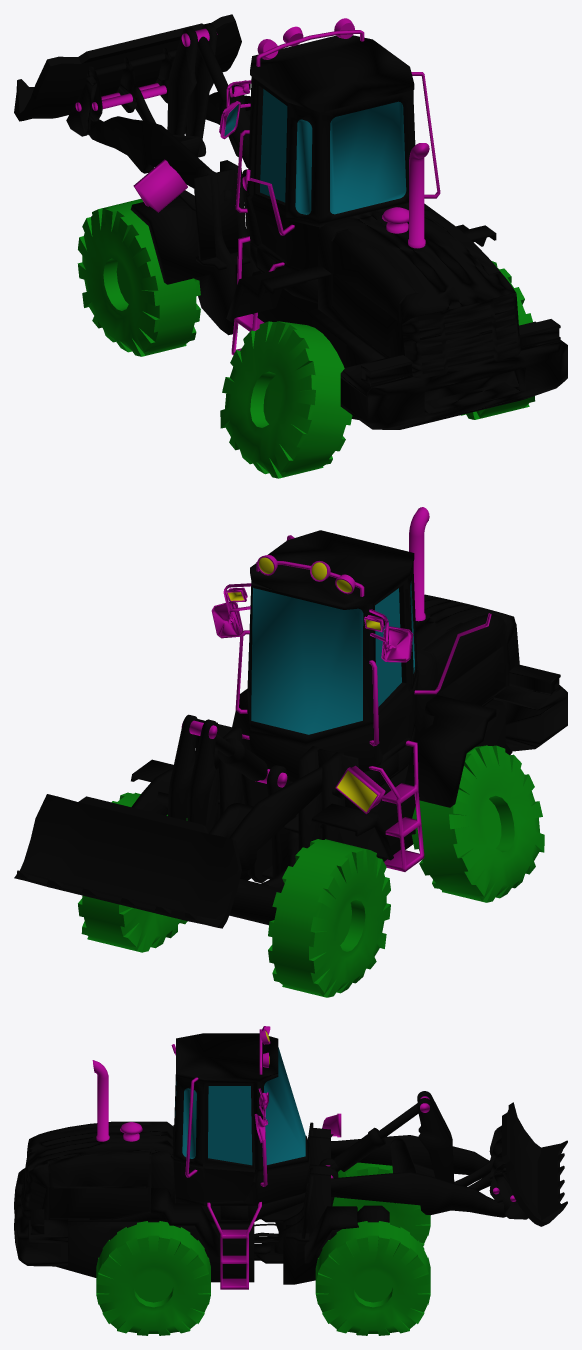
File: Bulldozer.FBX
3 views of the same model, one above another, from view 1: azimuth 30°, elevation 25°; view 2: azimuth 150°, elevation 25°; view 3: azimuth 270°, elevation 25° (orthographic). The views are drawn at different scales.
Parts seen in each view (by area): view 1: scene; view 2: scene; view 3: scene.
Boxes of the visible parts, <box> form: scene: <box>14,14,567,478</box>; scene: <box>14,507,567,997</box>; scene: <box>14,1026,567,1335</box>.
Bounding box in the file's own units: 280 × 367 × 697.
